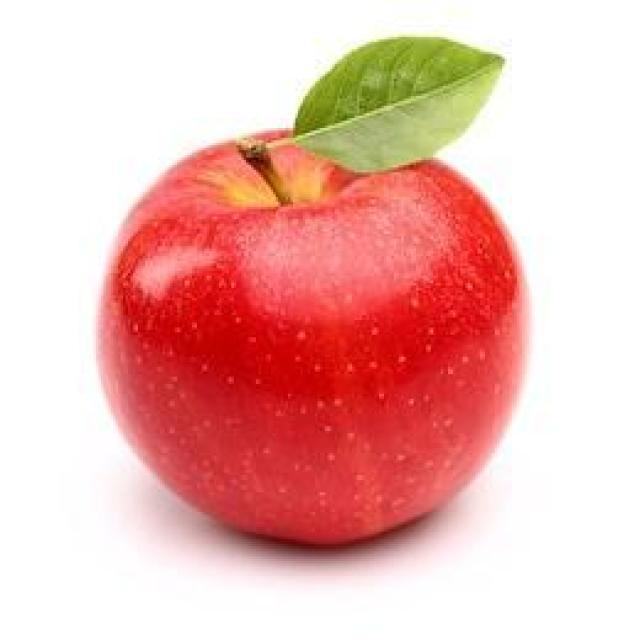apple: (97, 127, 532, 549)
